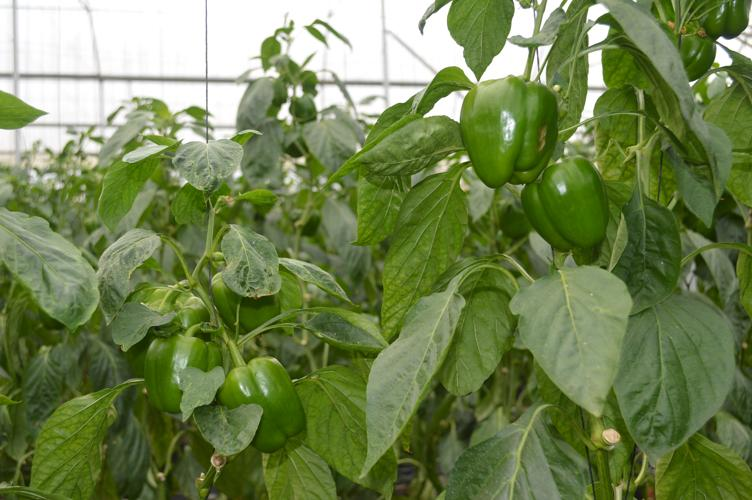BellPepper: (458, 79, 557, 184), (520, 160, 607, 249), (221, 359, 301, 447), (145, 339, 220, 416), (212, 277, 276, 335), (129, 287, 210, 331), (696, 2, 750, 39), (670, 35, 713, 80)
